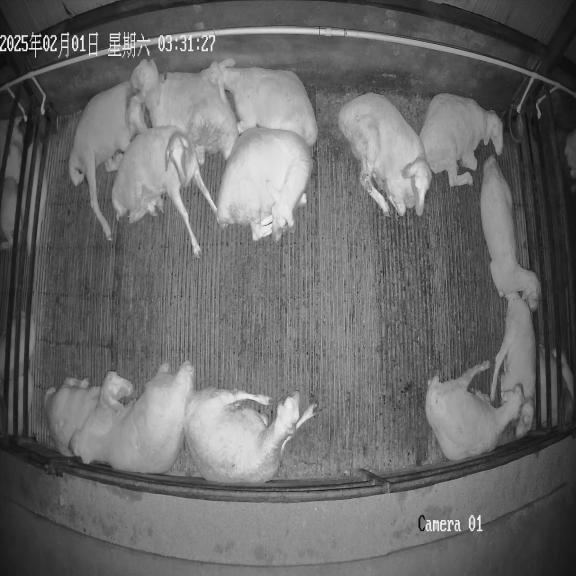lying: (69, 361, 194, 474), (112, 126, 216, 257), (184, 388, 315, 483), (68, 81, 146, 240), (338, 93, 432, 216), (131, 59, 239, 166), (216, 127, 312, 241), (200, 59, 318, 147), (425, 362, 524, 460), (480, 156, 540, 309), (420, 93, 503, 187), (45, 371, 133, 456), (490, 292, 536, 438)
